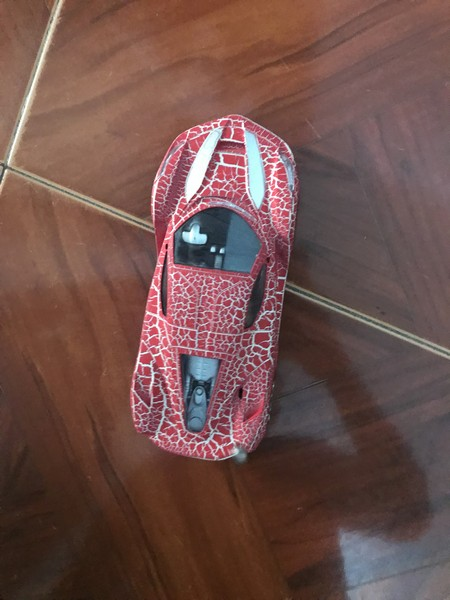RC: (128, 112, 299, 464)
